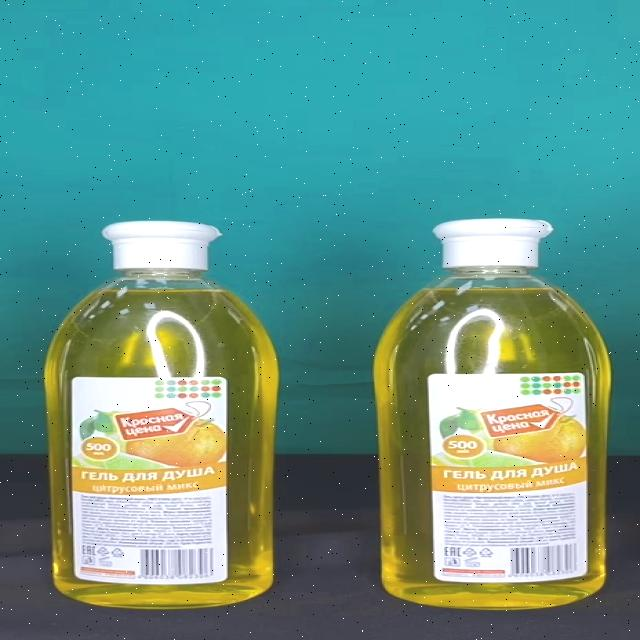Bottle: (373, 218, 611, 611), (43, 221, 280, 608)
Cap: (433, 218, 553, 268), (101, 222, 222, 270)
